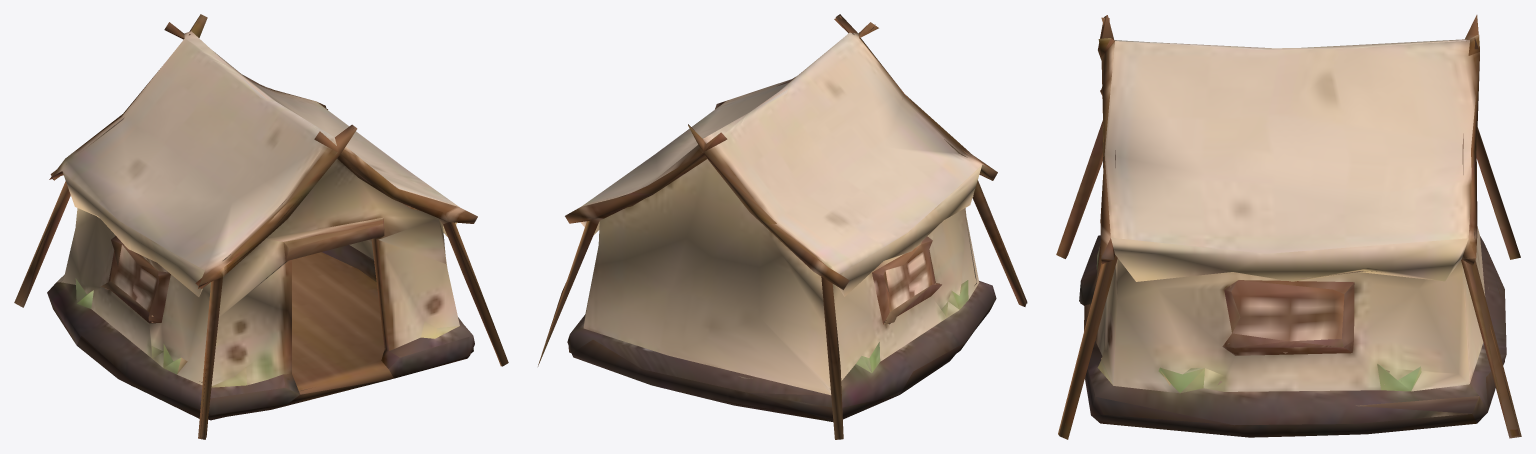
Rendered from sz-tent.glb.
3 renders of one model, left to right at view 1: azimuth 30°, elevation 25°; view 2: azimuth 150°, elevation 25°; view 3: azimuth 270°, elevation 25°, orthographic. The views are drawn at different scales.
Visible parts, largest first — view 1: geometry_0; view 2: geometry_0; view 3: geometry_0.
Part boxes in pixels (x1,y1,x2,y2): geometry_0: (14, 14, 508, 439); geometry_0: (538, 14, 1027, 439); geometry_0: (1056, 15, 1521, 439).
Size of the model in its own units: 0.9636 by 0.772 by 1.
Materials: 1 (1 with a texture image).
